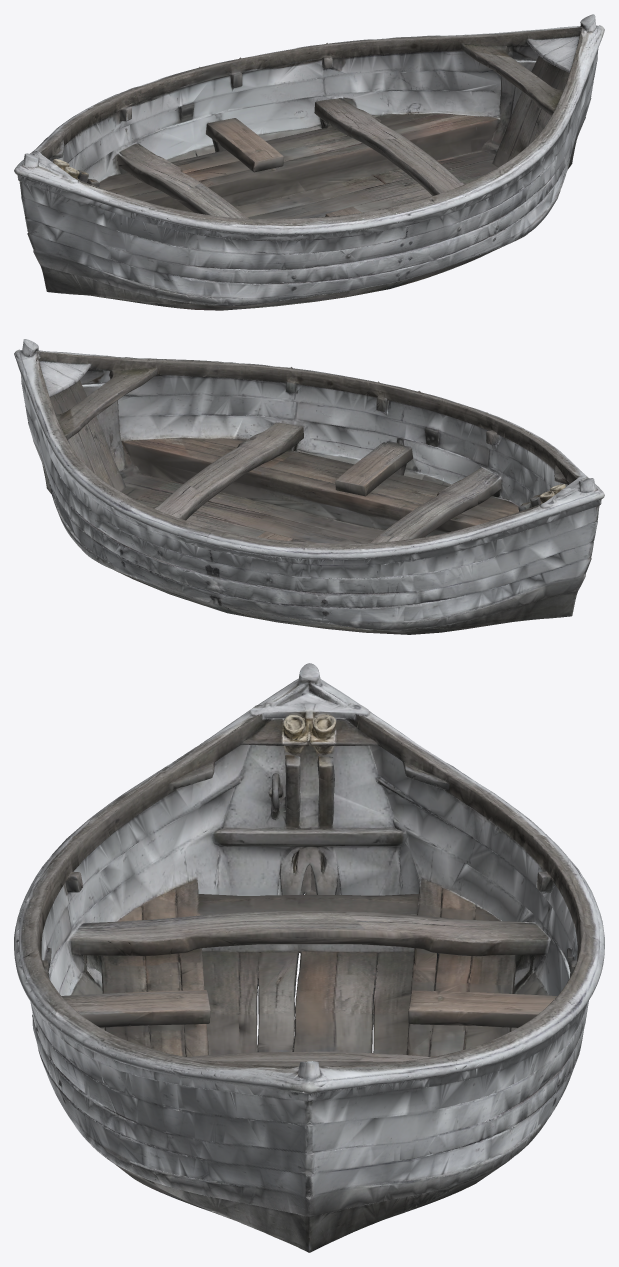
The model's file is rowboat.glb.
The picture shows the model from 3 angles, top to bottom: view 1: azimuth 30°, elevation 25°; view 2: azimuth 150°, elevation 25°; view 3: azimuth 270°, elevation 25°; orthographic projection. The views are drawn at different scales.
Parts seen in each view (by area): view 1: Mesh_0; view 2: Mesh_0; view 3: Mesh_0.
Part boxes in pixels (x1,y1,x2,y2): Mesh_0: (14, 14, 604, 310); Mesh_0: (14, 339, 604, 634); Mesh_0: (14, 663, 604, 1252).
Size of the model in its own units: 1.9 by 0.4472 by 1.15.
Materials: 1 (1 with a texture image).
